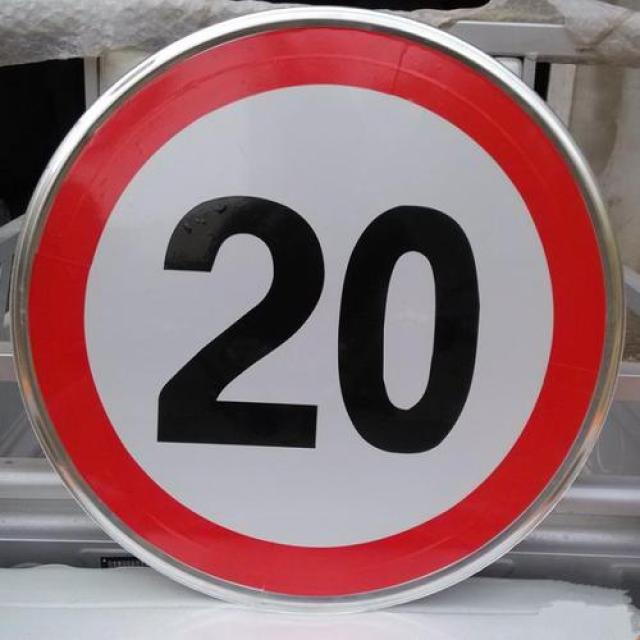speed limit 20: (11, 7, 625, 621)
